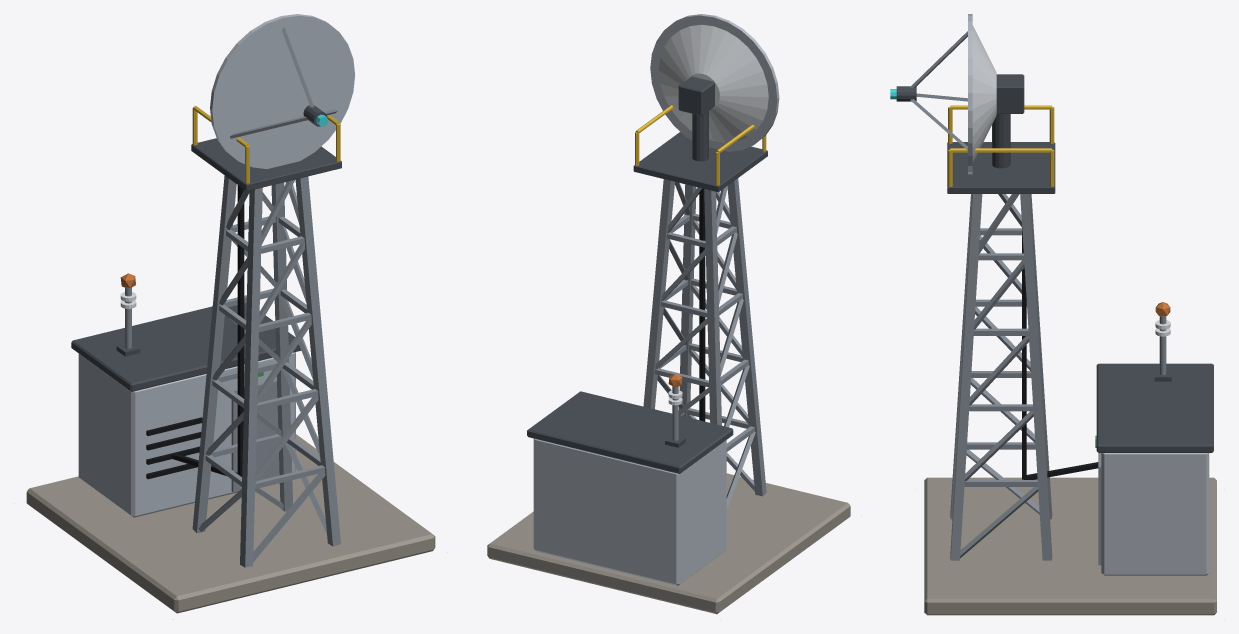
Rendered from relais_hyperfrequence.glb.
3 views of the same model, side by side, from view 1: azimuth 30°, elevation 25°; view 2: azimuth 150°, elevation 25°; view 3: azimuth 270°, elevation 25° (orthographic). The views are drawn at different scales.
Parts seen in each view (by area): view 1: pieces_acier.018, pieces_beton.006, pieces_gris_clair.006, parabole_bord.002, pieces_acier_sombre.016, pieces_noir.014, parabole_acier.002, pieces_jaune.012; view 2: pieces_gris_clair.006, pieces_acier.018, pieces_beton.006, pieces_acier_sombre.016, parabole_coque.002, parabole_bord.002, parabole_acier_sombre.002, pieces_noir.014, pieces_jaune.012; view 3: pieces_beton.006, pieces_acier.018, pieces_acier_sombre.016, pieces_gris_clair.006, parabole_acier_sombre.002, parabole_coque.002, pieces_jaune.012, pieces_noir.014, parabole_acier.002, parabole_bord.002.
Part boxes in pixels (<box>): pieces_acier.018: <box>125,175,340,567</box>; pieces_beton.006: <box>26,434,435,613</box>; pieces_gris_clair.006: <box>78,352,295,517</box>; parabole_bord.002: <box>210,14,354,168</box>; pieces_acier_sombre.016: <box>71,138,341,391</box>; pieces_noir.014: <box>146,185,244,479</box>; parabole_acier.002: <box>230,27,337,138</box>; pieces_jaune.012: <box>192,106,340,183</box>; pieces_gris_clair.006: <box>533,438,726,585</box>; pieces_acier.018: <box>643,178,766,510</box>; pieces_beton.006: <box>487,473,850,614</box>; pieces_acier_sombre.016: <box>527,132,767,473</box>; parabole_coque.002: <box>659,24,768,142</box>; parabole_bord.002: <box>650,14,779,151</box>; parabole_acier_sombre.002: <box>678,76,714,161</box>; pieces_noir.014: <box>699,188,705,421</box>; pieces_jaune.012: <box>635,105,766,185</box>; pieces_beton.006: <box>924,477,1216,615</box>; pieces_acier.018: <box>950,194,1166,565</box>; pieces_acier_sombre.016: <box>947,142,1213,452</box>; pieces_gris_clair.006: <box>1101,453,1209,575</box>; parabole_acier_sombre.002: <box>896,74,1024,168</box>; parabole_coque.002: <box>972,25,996,162</box>; pieces_jaune.012: <box>948,105,1054,186</box>; pieces_noir.014: <box>1022,227,1098,479</box>; parabole_acier.002: <box>910,31,967,150</box>; parabole_bord.002: <box>968,14,972,174</box>.
Size of the model in its own units: 1 by 1.91 by 1.08.
